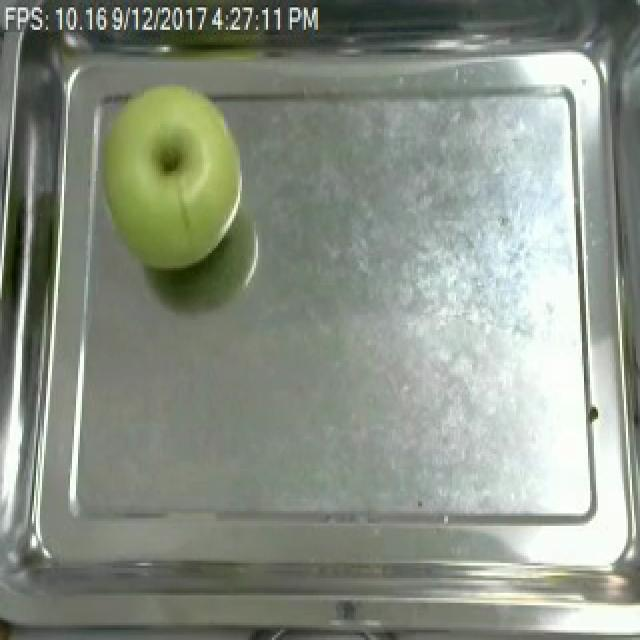50-_ripeness: (89, 73, 260, 284)
